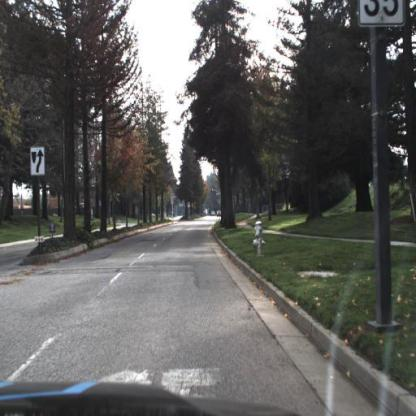car: (218, 212, 223, 218), (213, 212, 217, 217)
trafficLight-Red: (213, 190, 215, 194)
